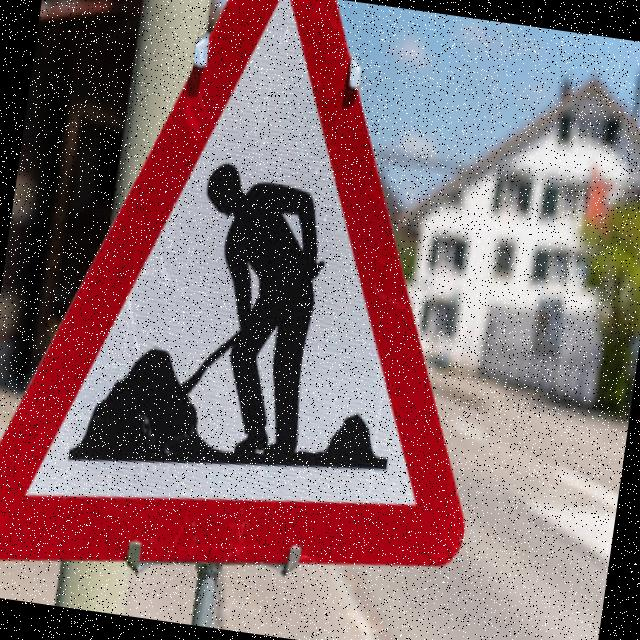road_work: (0, 0, 533, 634)
